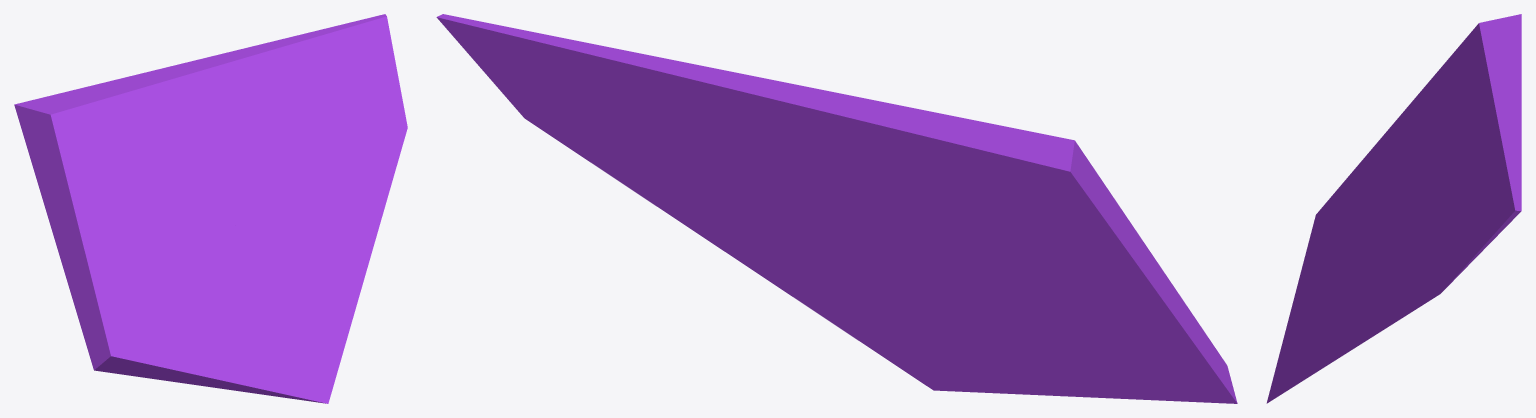
The model's file is Window_129_0_chunks.fbx.
3 renders of one model, left to right at view 1: azimuth 30°, elevation 25°; view 2: azimuth 150°, elevation 25°; view 3: azimuth 270°, elevation 25°, orthographic. The views are drawn at different scales.
Parts seen in each view (by area): view 1: Window_129_0_1, Window_129_0_0, Window_129_0_4, Window_129_0_5, Window_129_0_7, Window_129_0_8, Window_129_0_9, Window_129_0_2, Window_129_0_6; view 2: Window_129_0_1, Window_129_0_4, Window_129_0_7, Window_129_0_5, Window_129_0_8, Window_129_0_0, Window_129_0_2, Window_129_0_9, Window_129_0_6; view 3: Window_129_0_1, Window_129_0_0, Window_129_0_4, Window_129_0_7, Window_129_0_5, Window_129_0_8, Window_129_0_9, Window_129_0_2, Window_129_0_6.
Boxes of the visible parts, x1,y1,x2,y2 form: Window_129_0_1: (14,84,205,373); Window_129_0_0: (100,175,252,391); Window_129_0_4: (239,226,367,403); Window_129_0_5: (282,93,407,267); Window_129_0_7: (97,50,263,175); Window_129_0_8: (281,14,401,136); Window_129_0_9: (237,30,339,114); Window_129_0_2: (231,158,292,261); Window_129_0_6: (207,113,320,185); Window_129_0_1: (858,118,1237,403); Window_129_0_4: (733,238,1043,395); Window_129_0_7: (688,70,963,202); Window_129_0_5: (498,87,794,256); Window_129_0_8: (436,14,727,149); Window_129_0_0: (903,244,1232,402); Window_129_0_2: (741,169,944,289); Window_129_0_9: (532,32,722,113); Window_129_0_6: (682,139,863,208); Window_129_0_1: (1346,14,1521,179); Window_129_0_0: (1284,174,1425,336); Window_129_0_4: (1266,252,1385,403); Window_129_0_7: (1426,55,1521,179); Window_129_0_5: (1352,220,1465,349); Window_129_0_8: (1442,170,1521,268); Window_129_0_9: (1460,127,1521,192); Window_129_0_2: (1367,199,1430,269); Window_129_0_6: (1417,175,1461,235).
Bounding box in the file's own units: 829 × 546 × 442.
